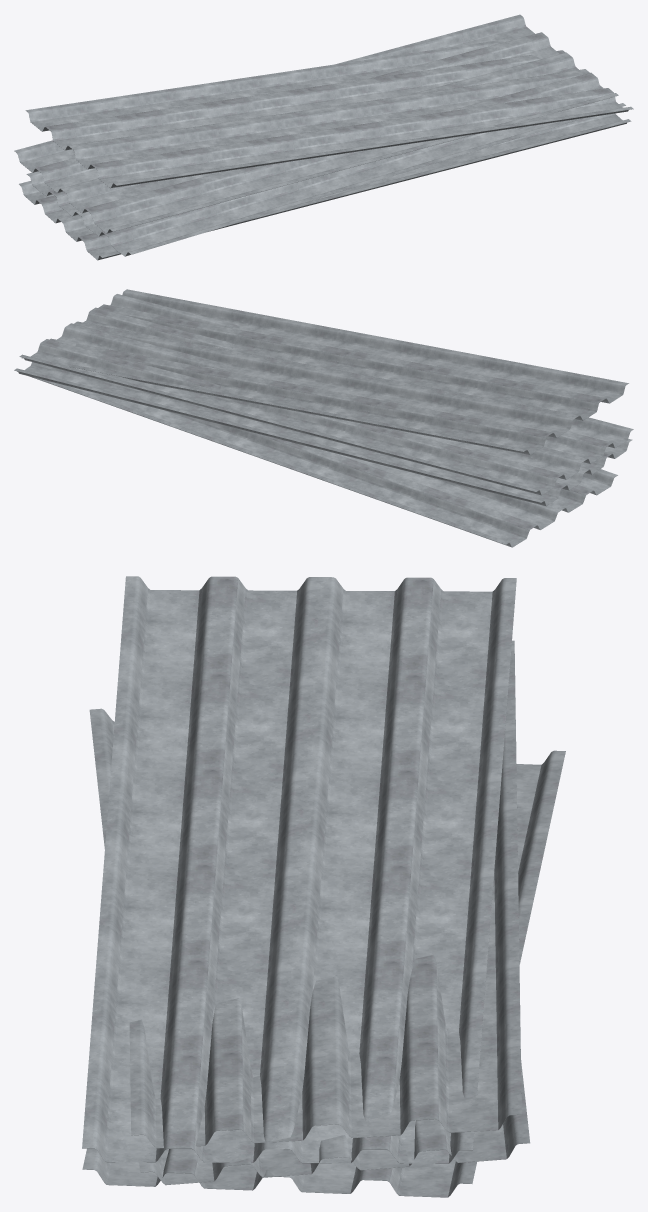
Rendered from COB-MTL-001_anim.glb.
3 renders of one model, top to bottom at view 1: azimuth 30°, elevation 25°; view 2: azimuth 150°, elevation 25°; view 3: azimuth 270°, elevation 25°, orthographic. The views are drawn at different scales.
Parts seen in each view (by area): view 1: COB-MTL-001_anim3, COB-MTL-001_anim2, COB-MTL-001_anim1, COB-MTL-001_anim0; view 2: COB-MTL-001_anim3, COB-MTL-001_anim2, COB-MTL-001_anim0, COB-MTL-001_anim1; view 3: COB-MTL-001_anim3, COB-MTL-001_anim2, COB-MTL-001_anim0, COB-MTL-001_anim1.
Part boxes in pixels (left/top/right/bottom): COB-MTL-001_anim3: left=25, top=41, right=633, bottom=188; COB-MTL-001_anim2: left=14, top=14, right=618, bottom=233; COB-MTL-001_anim1: left=26, top=67, right=625, bottom=256; COB-MTL-001_anim0: left=19, top=113, right=631, bottom=260; COB-MTL-001_anim3: left=21, top=289, right=628, bottom=454; COB-MTL-001_anim2: left=19, top=294, right=633, bottom=495; COB-MTL-001_anim0: left=17, top=371, right=617, bottom=547; COB-MTL-001_anim1: left=14, top=321, right=632, bottom=506; COB-MTL-001_anim3: left=82, top=576, right=516, bottom=1163; COB-MTL-001_anim2: left=129, top=640, right=521, bottom=1148; COB-MTL-001_anim0: left=82, top=750, right=565, bottom=1197; COB-MTL-001_anim1: left=89, top=708, right=530, bottom=1185.
Bounding box in the file's own units: 3.09 × 0.5141 × 1.24.
Materials: 1 (1 with a texture image).
